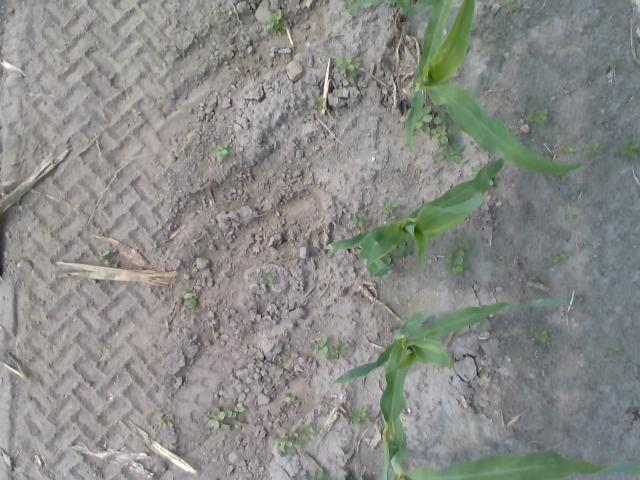Maize: (332, 298, 574, 480), (407, 0, 581, 174), (323, 158, 504, 276), (392, 417, 640, 480), (344, 0, 439, 27)
Weeds: (445, 238, 478, 272), (431, 145, 463, 164), (208, 406, 234, 428), (421, 106, 441, 132), (270, 10, 287, 36), (312, 334, 329, 357), (338, 57, 358, 76), (274, 430, 292, 451), (351, 405, 368, 425), (434, 124, 451, 143), (621, 137, 637, 157), (377, 200, 398, 214), (212, 142, 226, 162), (507, 0, 529, 12), (300, 468, 322, 480), (534, 108, 548, 125), (300, 424, 314, 440), (184, 289, 196, 307), (262, 272, 278, 285), (158, 412, 172, 426), (552, 249, 566, 263), (334, 337, 350, 349), (355, 212, 366, 229), (97, 248, 110, 260), (586, 142, 598, 154), (536, 330, 546, 342), (612, 343, 622, 354), (564, 144, 576, 153), (606, 55, 616, 65), (332, 350, 342, 360), (233, 406, 244, 415), (315, 98, 324, 109), (486, 35, 496, 44), (478, 369, 488, 378), (212, 12, 220, 22), (566, 209, 574, 219), (524, 114, 532, 123), (292, 426, 298, 437), (150, 244, 158, 252), (284, 393, 292, 401)
